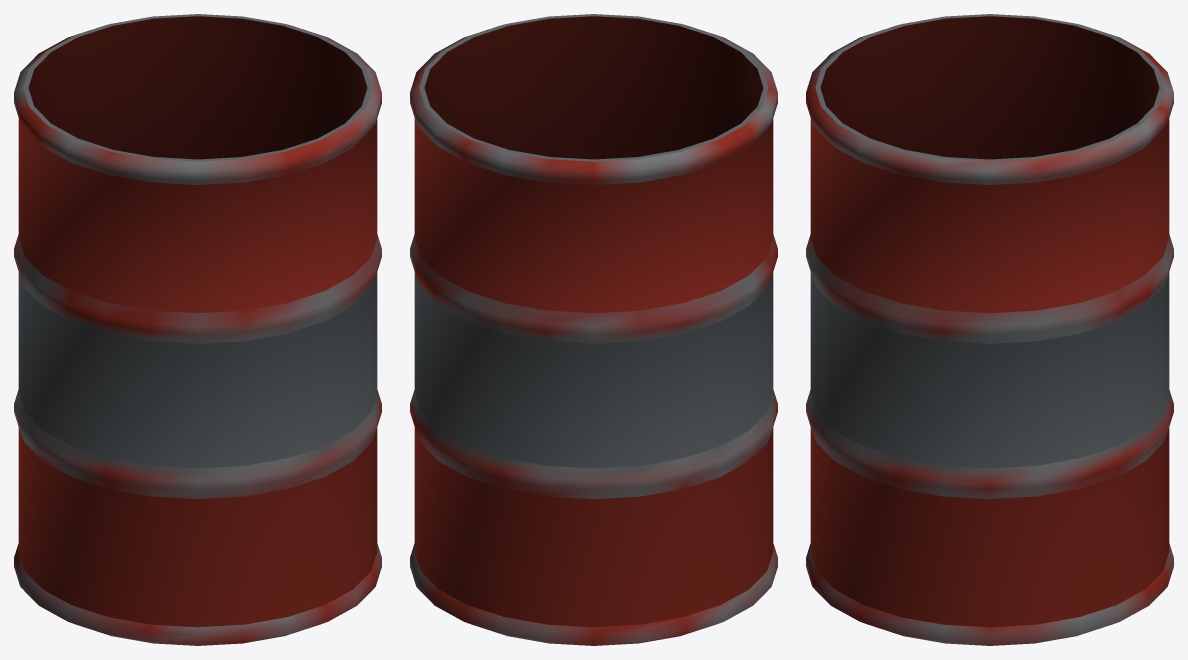
File: drum.steel_open.red.glb
3 renders of one model, left to right at view 1: azimuth 30°, elevation 25°; view 2: azimuth 150°, elevation 25°; view 3: azimuth 270°, elevation 25°, orthographic.
Parts seen in each view (by area): view 1: drum_steel_open_red; view 2: drum_steel_open_red; view 3: drum_steel_open_red.
Part boxes in pixels (x1,y1,x2,y2): drum_steel_open_red: (14,14,381,645); drum_steel_open_red: (410,14,777,645); drum_steel_open_red: (806,14,1173,645).
Size of what is drawn, in the model's own units: 0.653 by 0.95 by 0.653.
